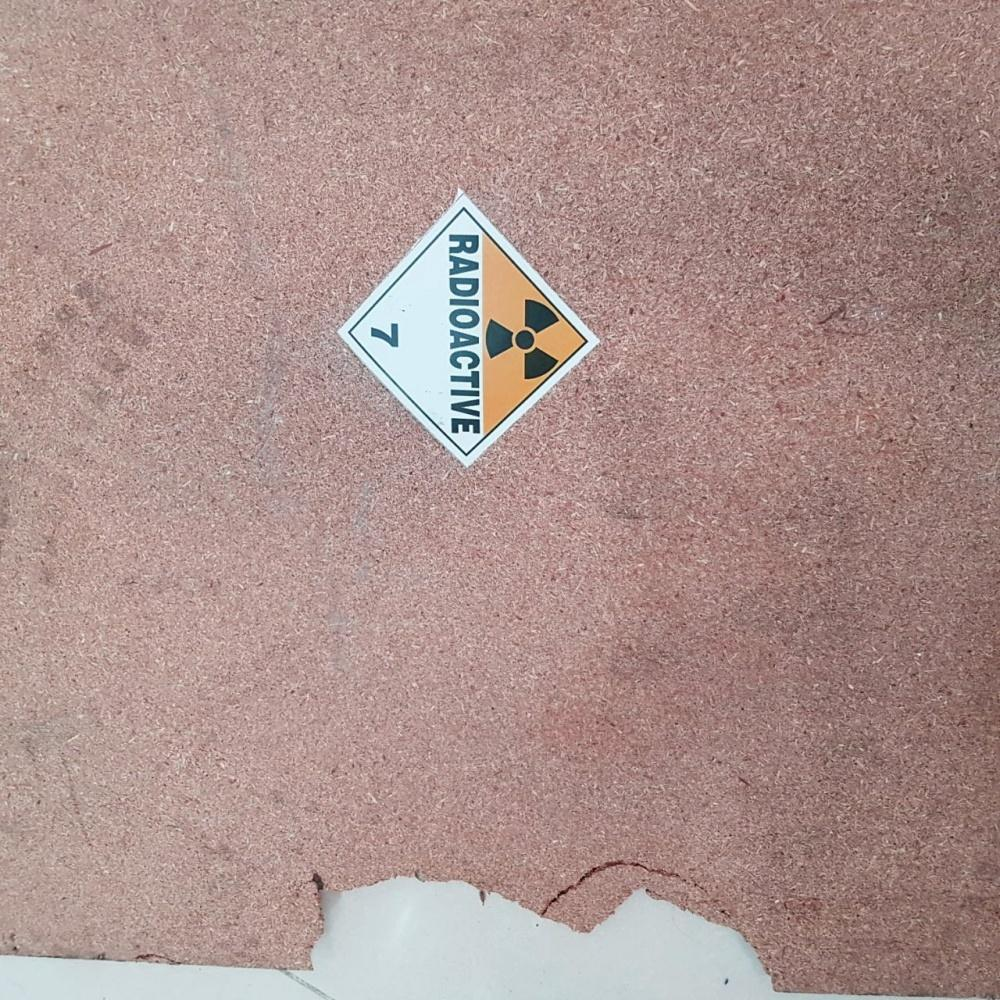radioactive: (339, 194, 604, 465)
